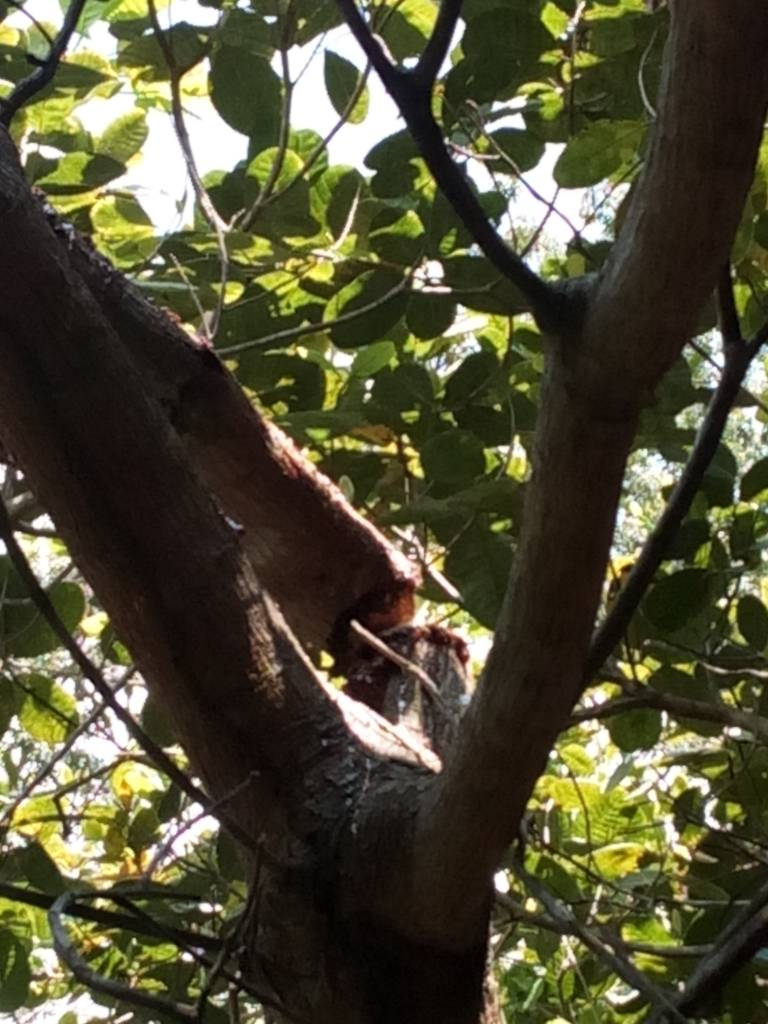Analepse trifasciata: (299, 585, 507, 683)
